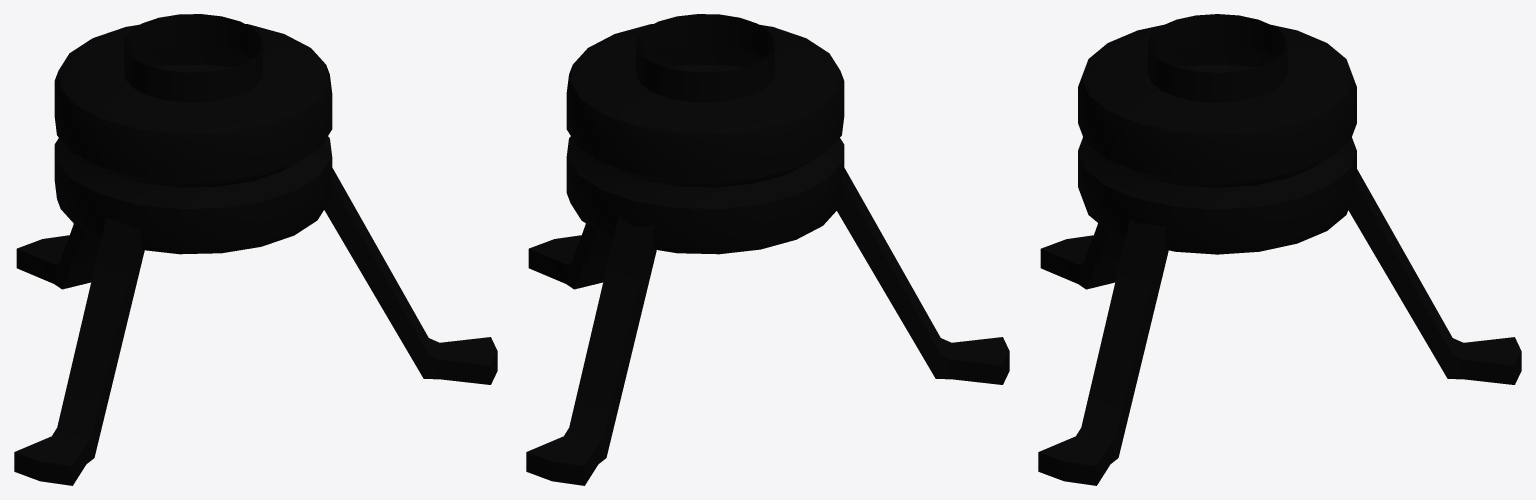
File: Turret_Base.fbx
3 renders of one model, left to right at view 1: azimuth 30°, elevation 25°; view 2: azimuth 150°, elevation 25°; view 3: azimuth 270°, elevation 25°, orthographic.
Parts seen in each view (by area): view 1: SM_Miniturret_base_LOD0.mo; view 2: SM_Miniturret_base_LOD0.mo; view 3: SM_Miniturret_base_LOD0.mo.
Part boxes in pixels (box(x1,y1,x2,y2)): SM_Miniturret_base_LOD0.mo: box(14, 14, 497, 485); SM_Miniturret_base_LOD0.mo: box(526, 14, 1009, 485); SM_Miniturret_base_LOD0.mo: box(1038, 14, 1521, 485).
Size of the model in its own units: 82.16 by 53.99 by 72.35.
1 material, 1 textured.
